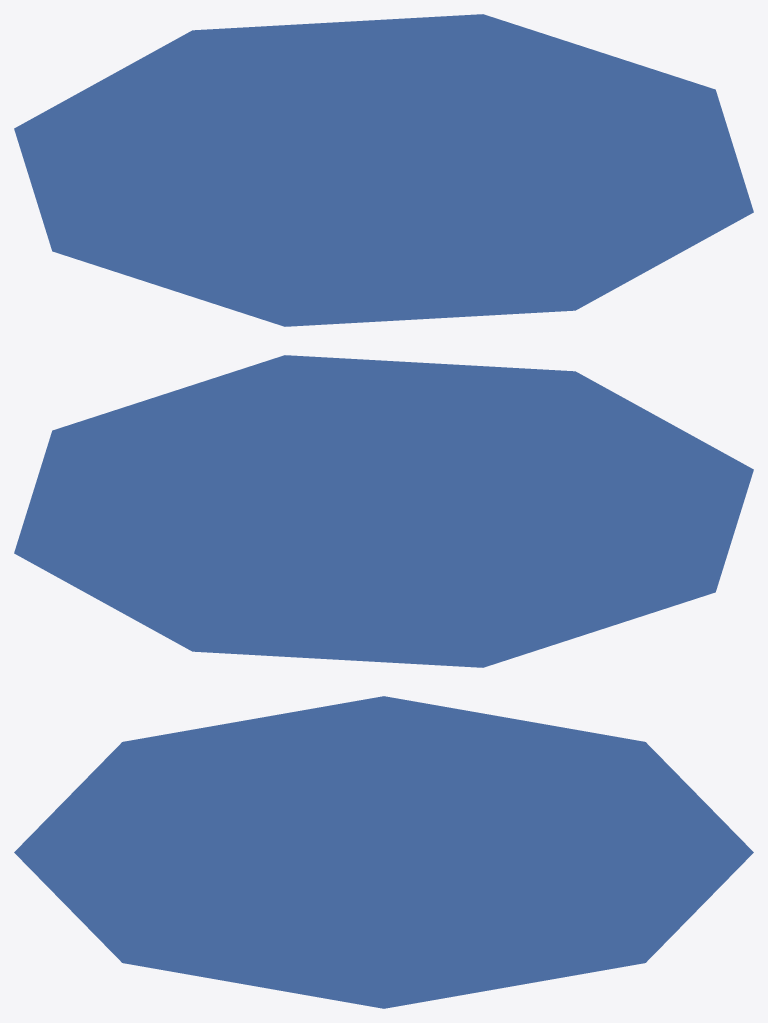
The model's file is Well-Water.FBX.
The picture shows the model from 3 angles, top to bottom: view 1: azimuth 30°, elevation 25°; view 2: azimuth 150°, elevation 25°; view 3: azimuth 270°, elevation 25°; orthographic projection. The views are drawn at different scales.
Visible parts, largest first — view 1: Well-Water; view 2: Well-Water; view 3: Well-Water.
Boxes of the visible parts, left/top/right/bottom form: Well-Water: left=14, top=14, right=753, bottom=326; Well-Water: left=14, top=355, right=753, bottom=667; Well-Water: left=14, top=696, right=753, bottom=1008.
Bounding box in the file's own units: 30 × 30 × 1.31e-06.
